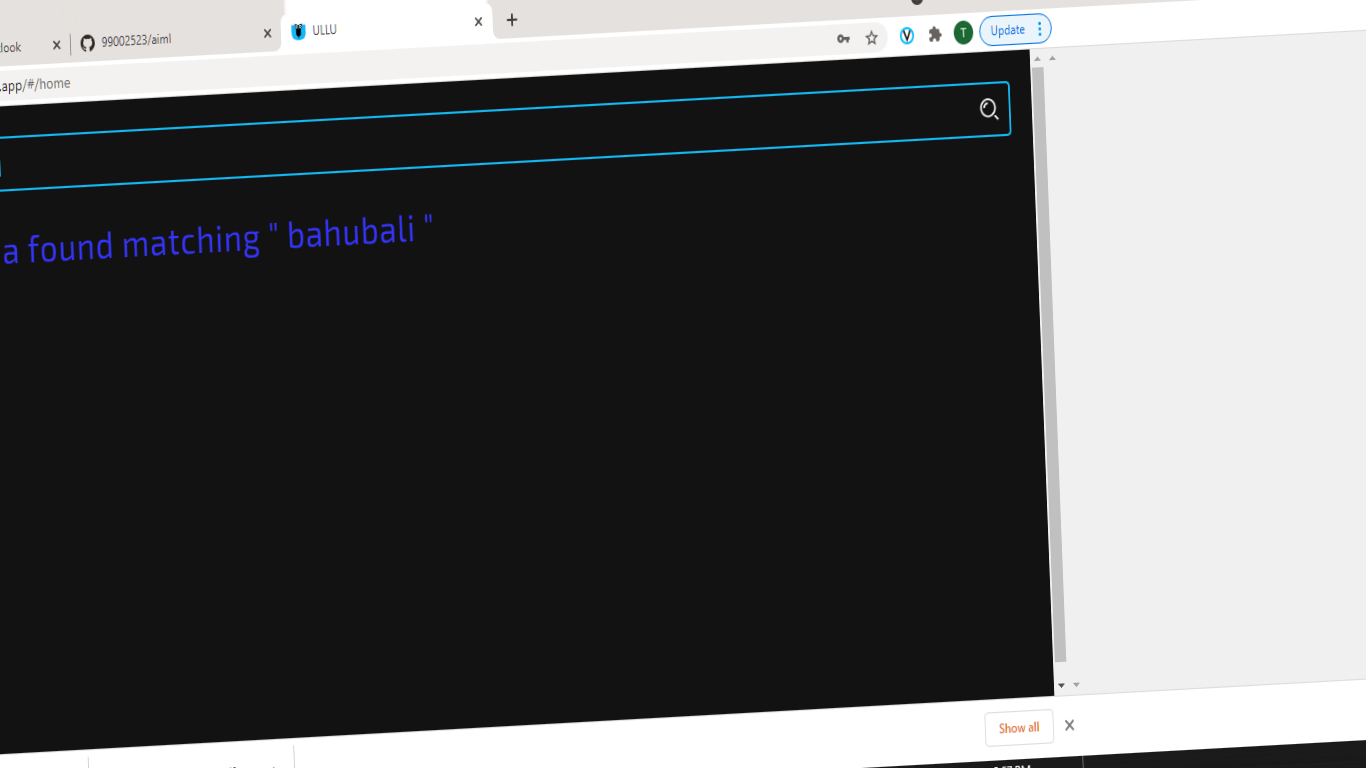noresultsfound: (1, 211, 448, 278)
searchicon: (970, 83, 1018, 133)
searchtextbox: (4, 90, 1023, 185)
